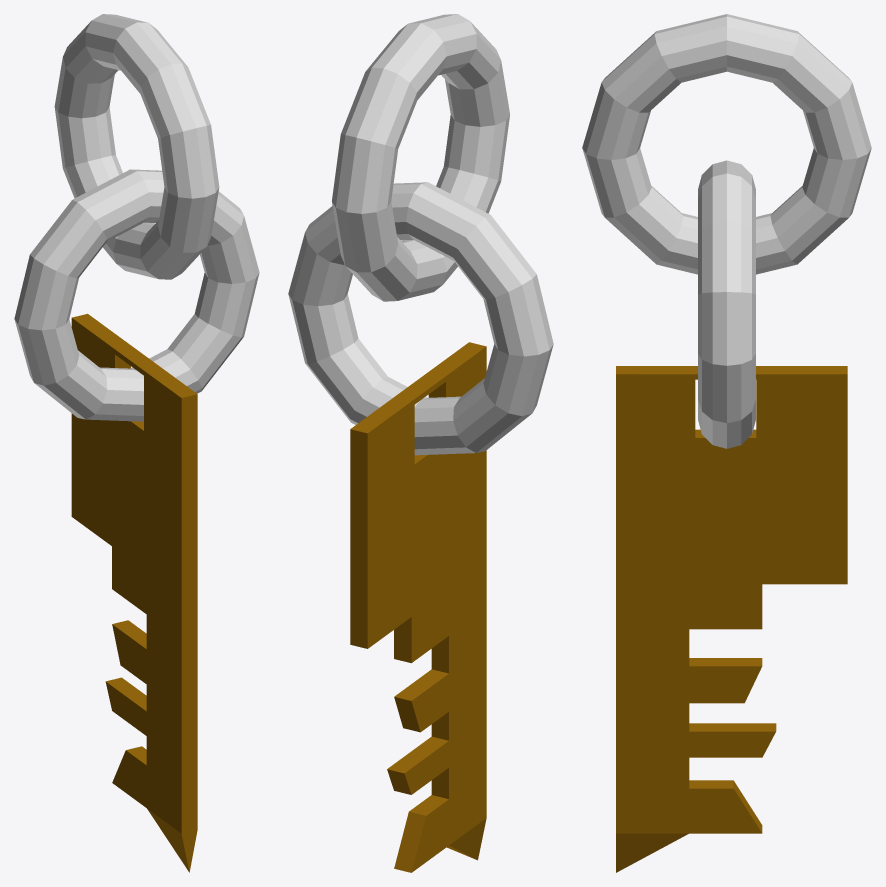
File: Key.fbx
The picture shows the model from 3 angles, left to right: view 1: azimuth 30°, elevation 25°; view 2: azimuth 150°, elevation 25°; view 3: azimuth 270°, elevation 25°; orthographic projection. The views are drawn at different scales.
Visible parts, largest first — view 1: Cube; view 2: Cube; view 3: Cube.
Part boxes in pixels (bbox=[...]): Cube: bbox=[14, 14, 259, 872]; Cube: bbox=[288, 14, 553, 872]; Cube: bbox=[582, 14, 871, 872].
Bounding box in the file's own units: 43.61 × 142 × 43.61.
